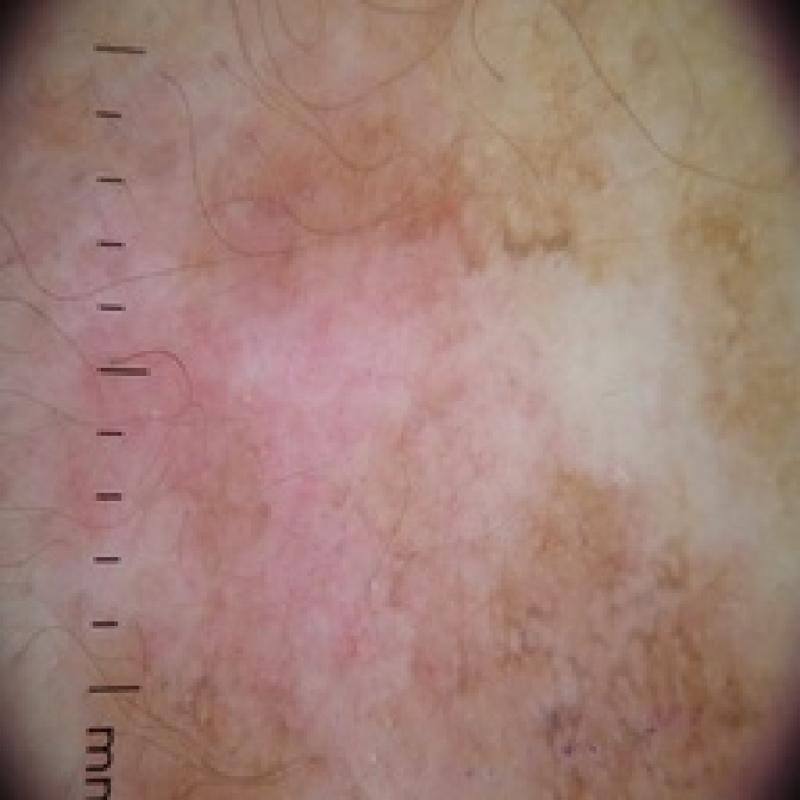malignant: (51, 21, 740, 780)
